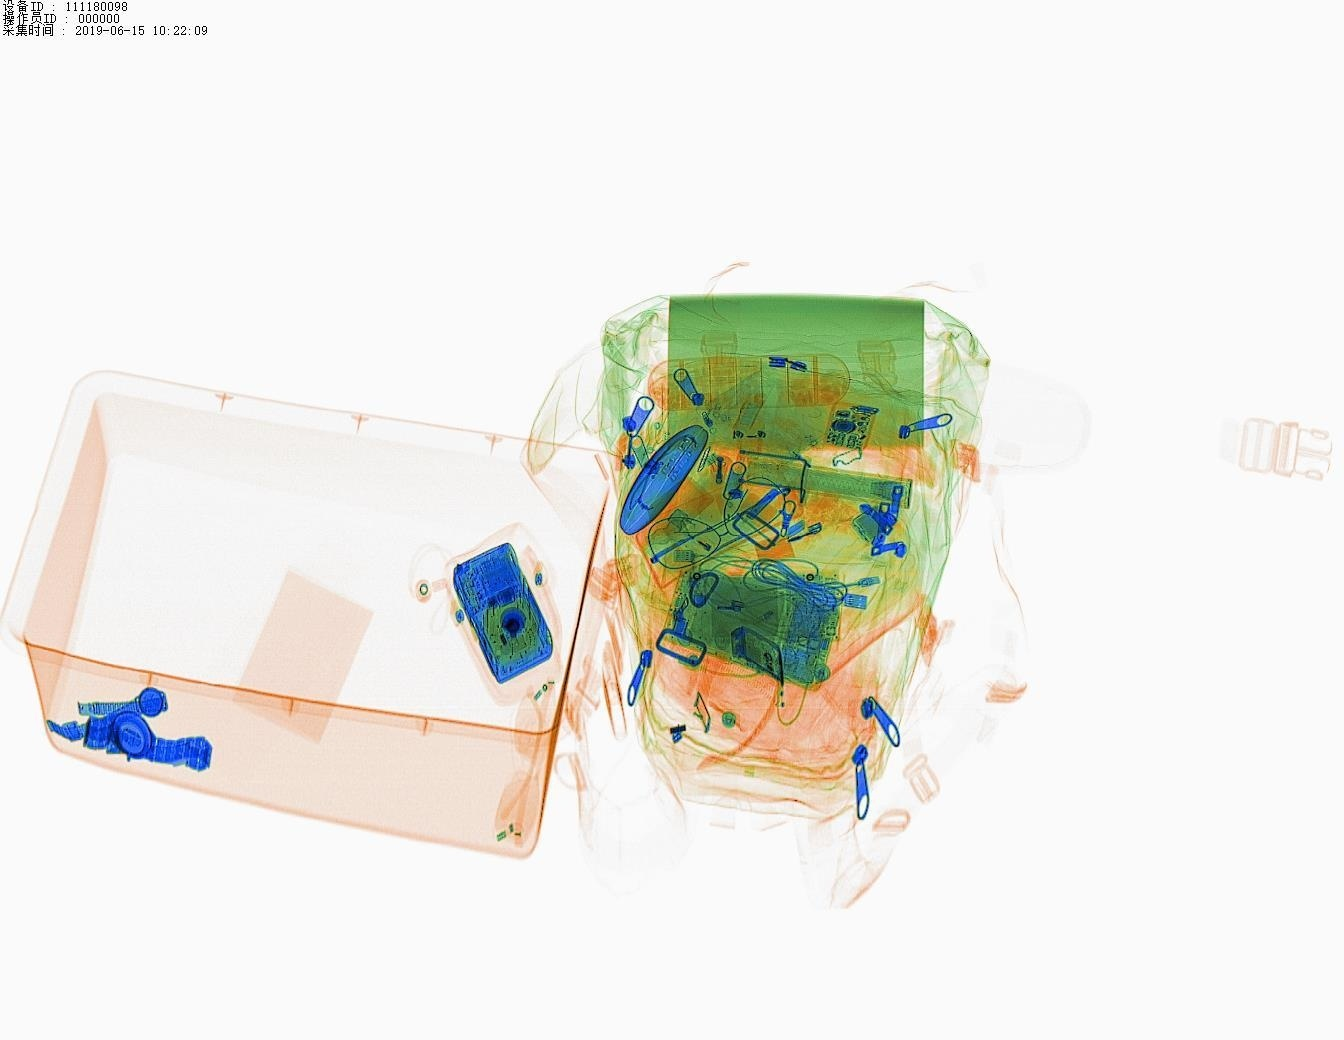NonmetallicFire: (657, 501, 746, 562)
